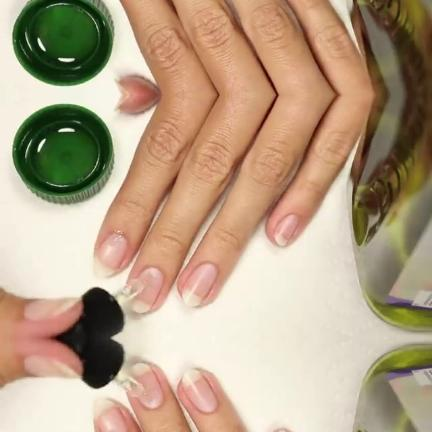Nail: (182, 262, 218, 306), (182, 368, 218, 412), (93, 232, 127, 275), (130, 267, 162, 312), (130, 362, 162, 407), (24, 296, 79, 320), (24, 354, 79, 378), (93, 399, 127, 432), (275, 213, 299, 245), (277, 429, 288, 432)
